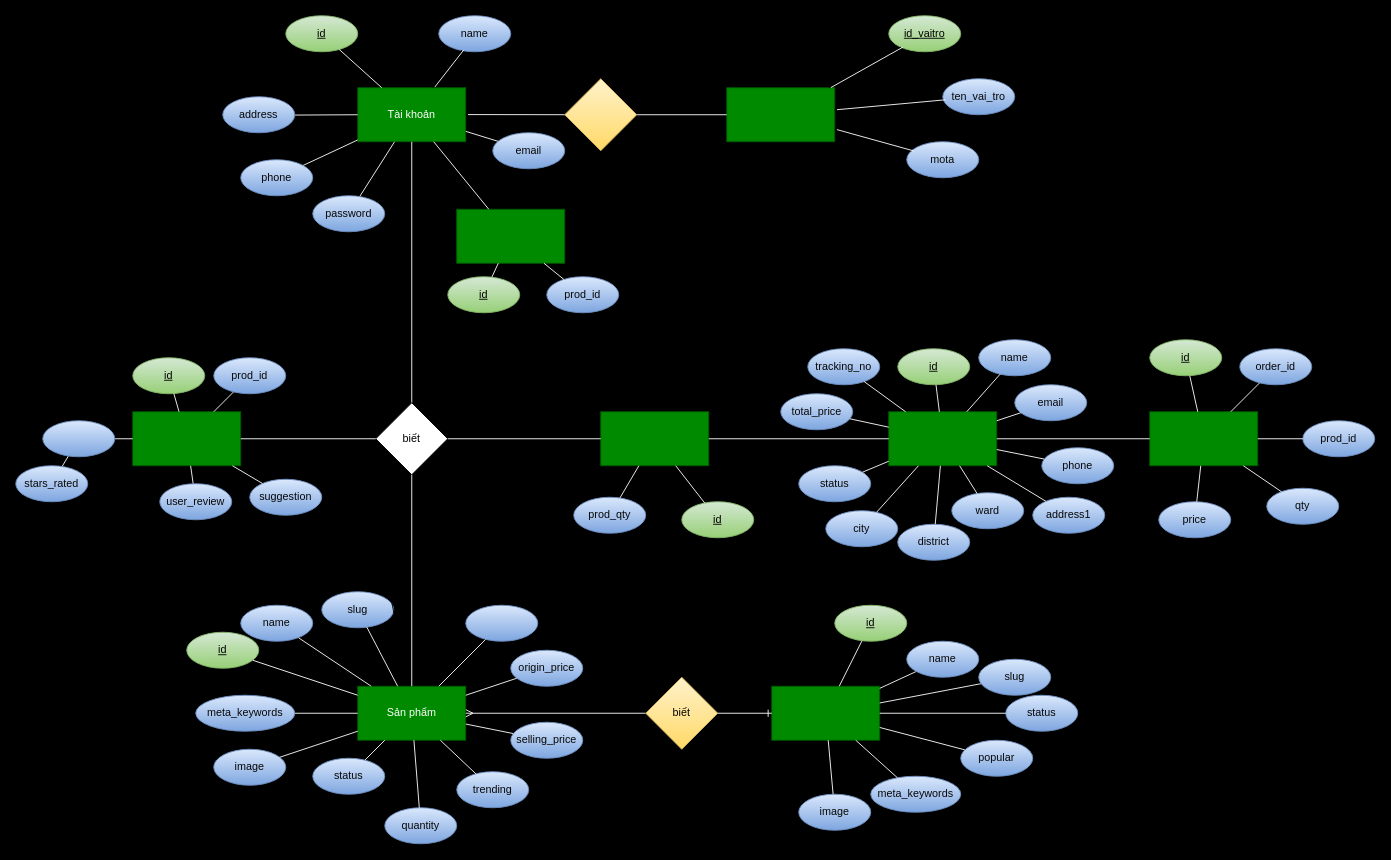
The diagram is 1391 pixels wide and 860 high, and some of its shapes have lost their labels. Here are the shapes that lost their labels. From the top down, the centre of each, then its label:
the point at 600,114: Có
the point at 780,114: Vai trò
the point at 510,235: Wishlist
the point at 78,438: rating
the point at 186,438: Review
the point at 654,438: Cart
the point at 942,438: Orders
the point at 1203,438: Order_items
the point at 501,622: description
the point at 825,712: Danh mục
